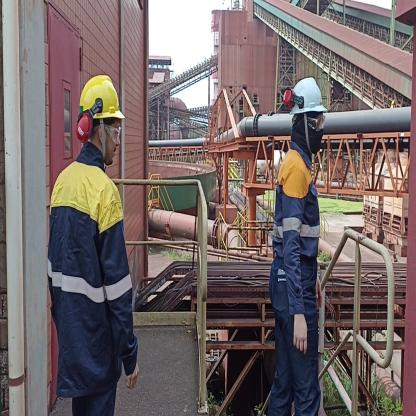Balaclava: (294, 110, 321, 161)
C_eletrica: (51, 163, 132, 382)
Capacete: (82, 74, 126, 122), (289, 76, 326, 112)
Operacional: (272, 150, 321, 297)
